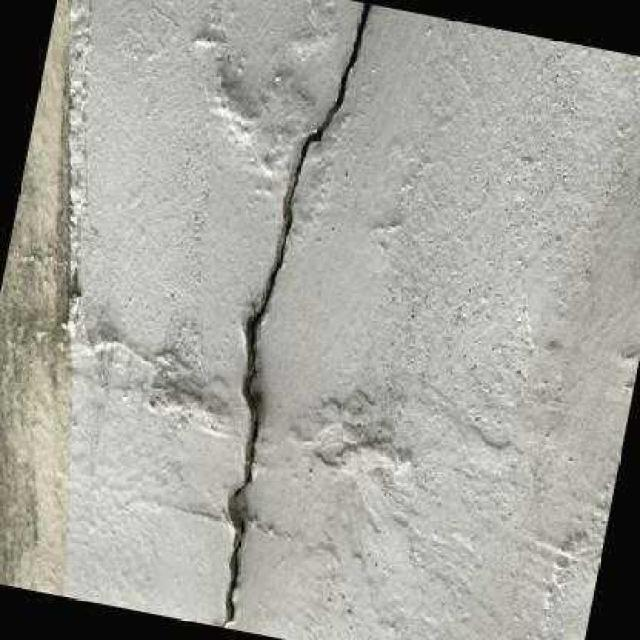D00: (217, 9, 373, 625)
